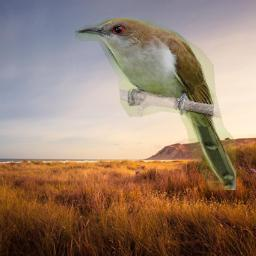Cuckoo: (75, 18, 236, 190)
